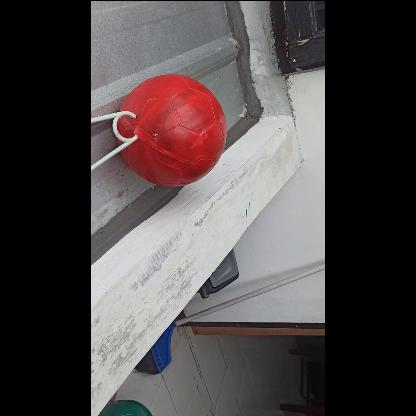red_ball: (119, 73, 229, 183)
